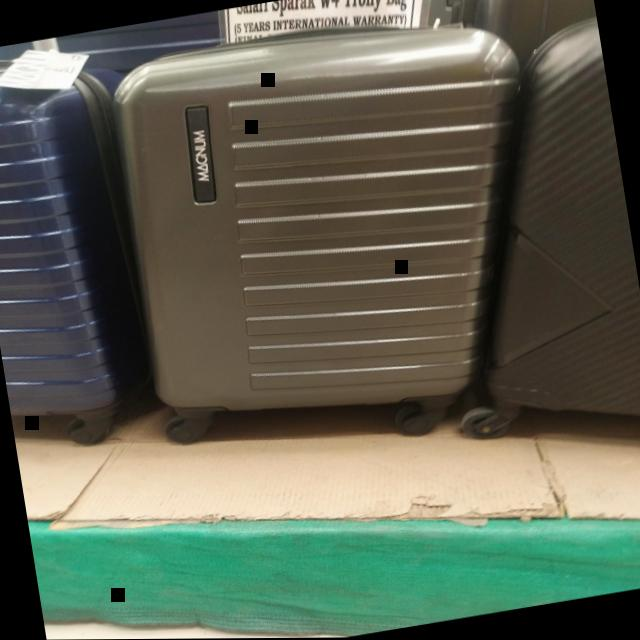luggage: (97, 0, 574, 452)
